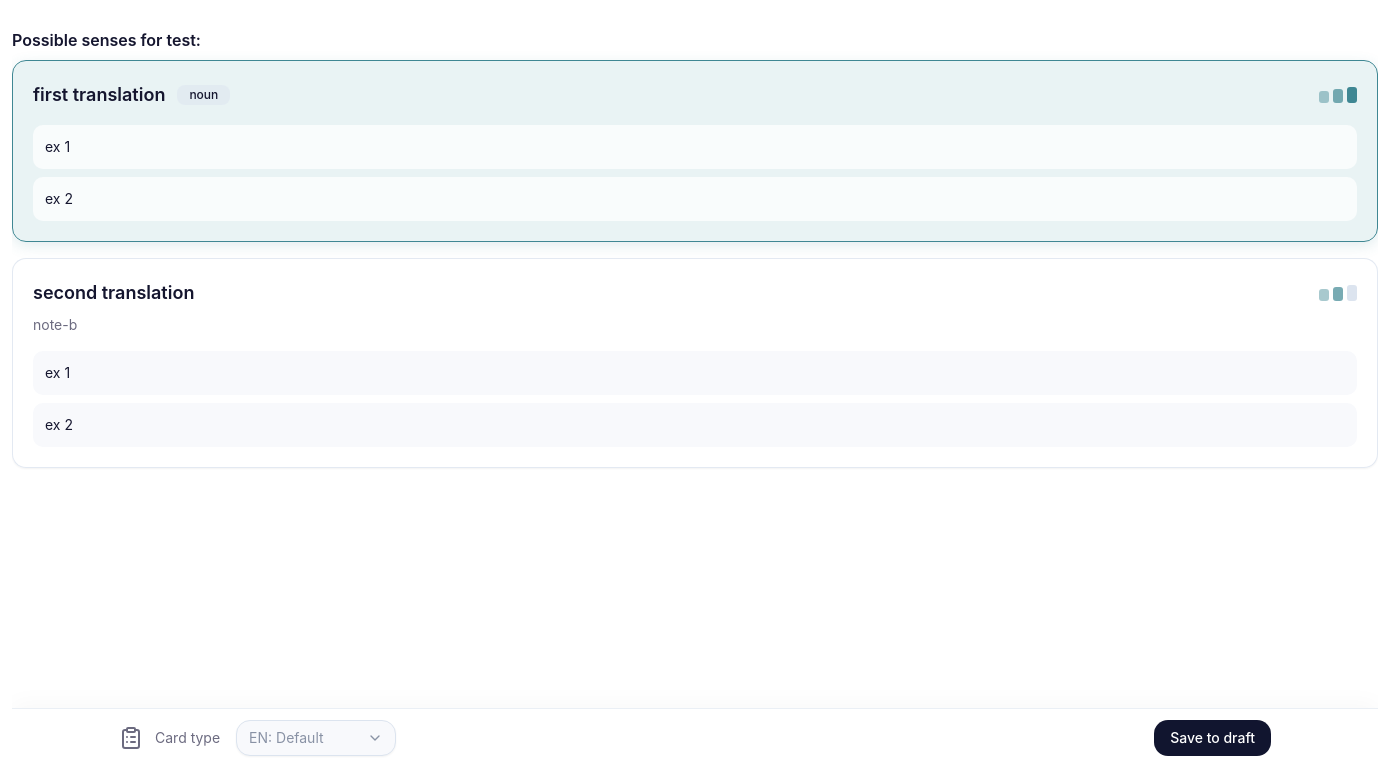
Test: SensesResults › shows an error and keeps the selection when save fails
This screenshot has width=1378, height=768.
Click the option "second translation note-b ex 1 ex 2" at (695, 455), box [12,258,1377,468]
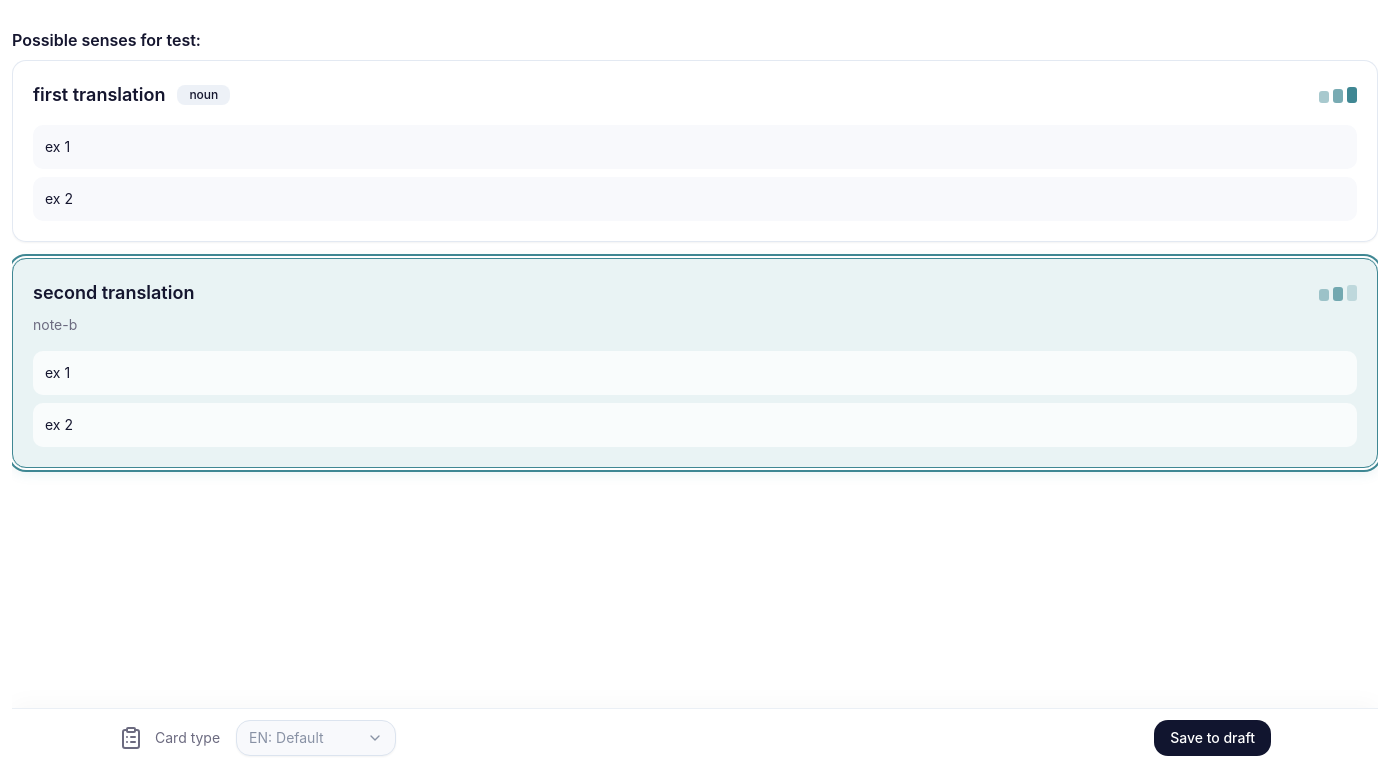
Click the button "Save to draft" at (1213, 738), box [1154,720,1271,756]
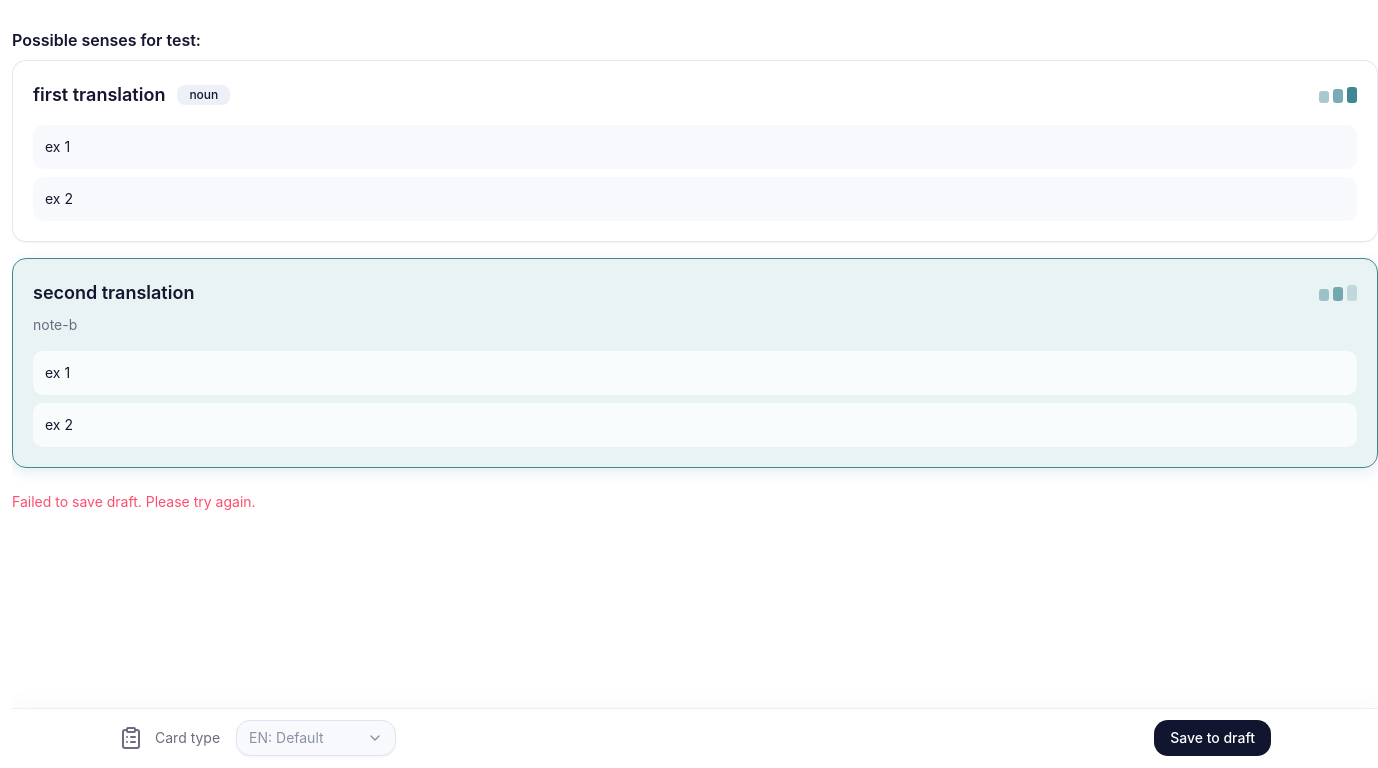
Result: the text "Failed to save draft. Please try again." is shown at [12,493,256,510]
